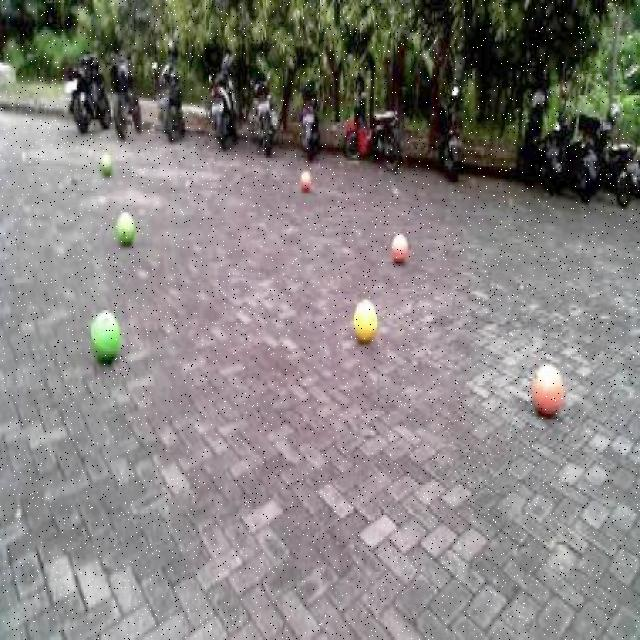buoy: (526, 351, 569, 426), (84, 302, 125, 365), (352, 291, 380, 343), (110, 202, 136, 247), (390, 223, 409, 264)
